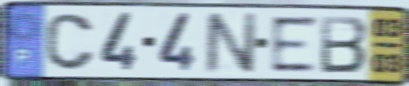4: (155, 10, 201, 76), (97, 9, 143, 75)
B: (319, 13, 370, 75)
C: (43, 11, 98, 73)
E: (268, 14, 319, 75)
N: (203, 10, 259, 77)
